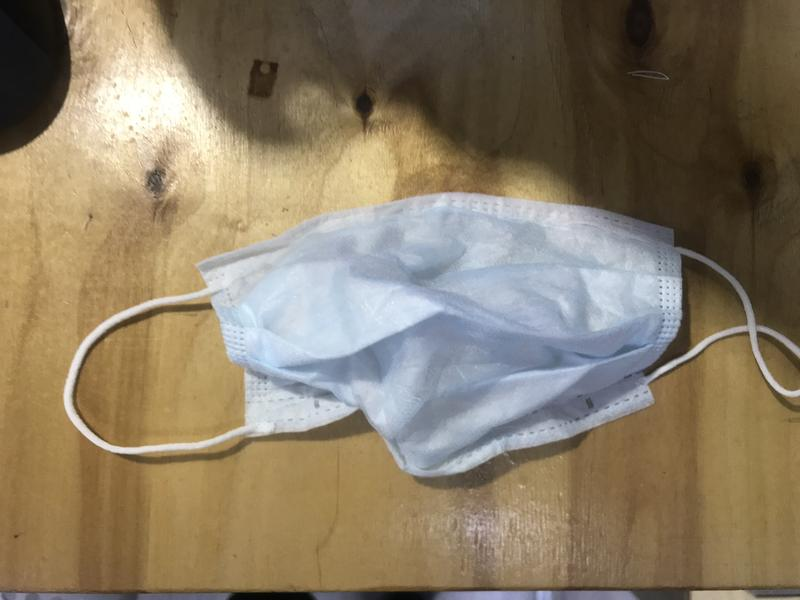medical_mask: (63, 192, 800, 477)
